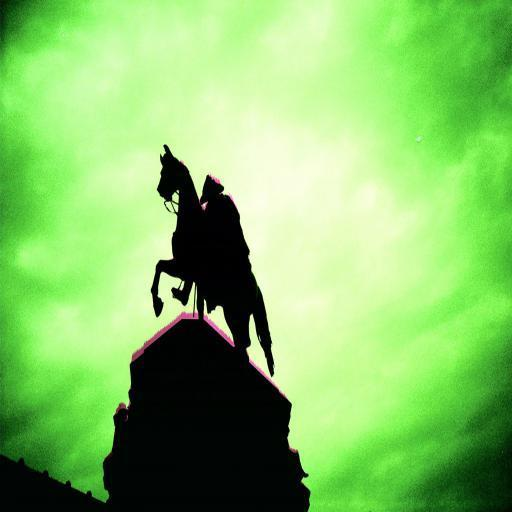horse: (150, 146, 284, 380)
